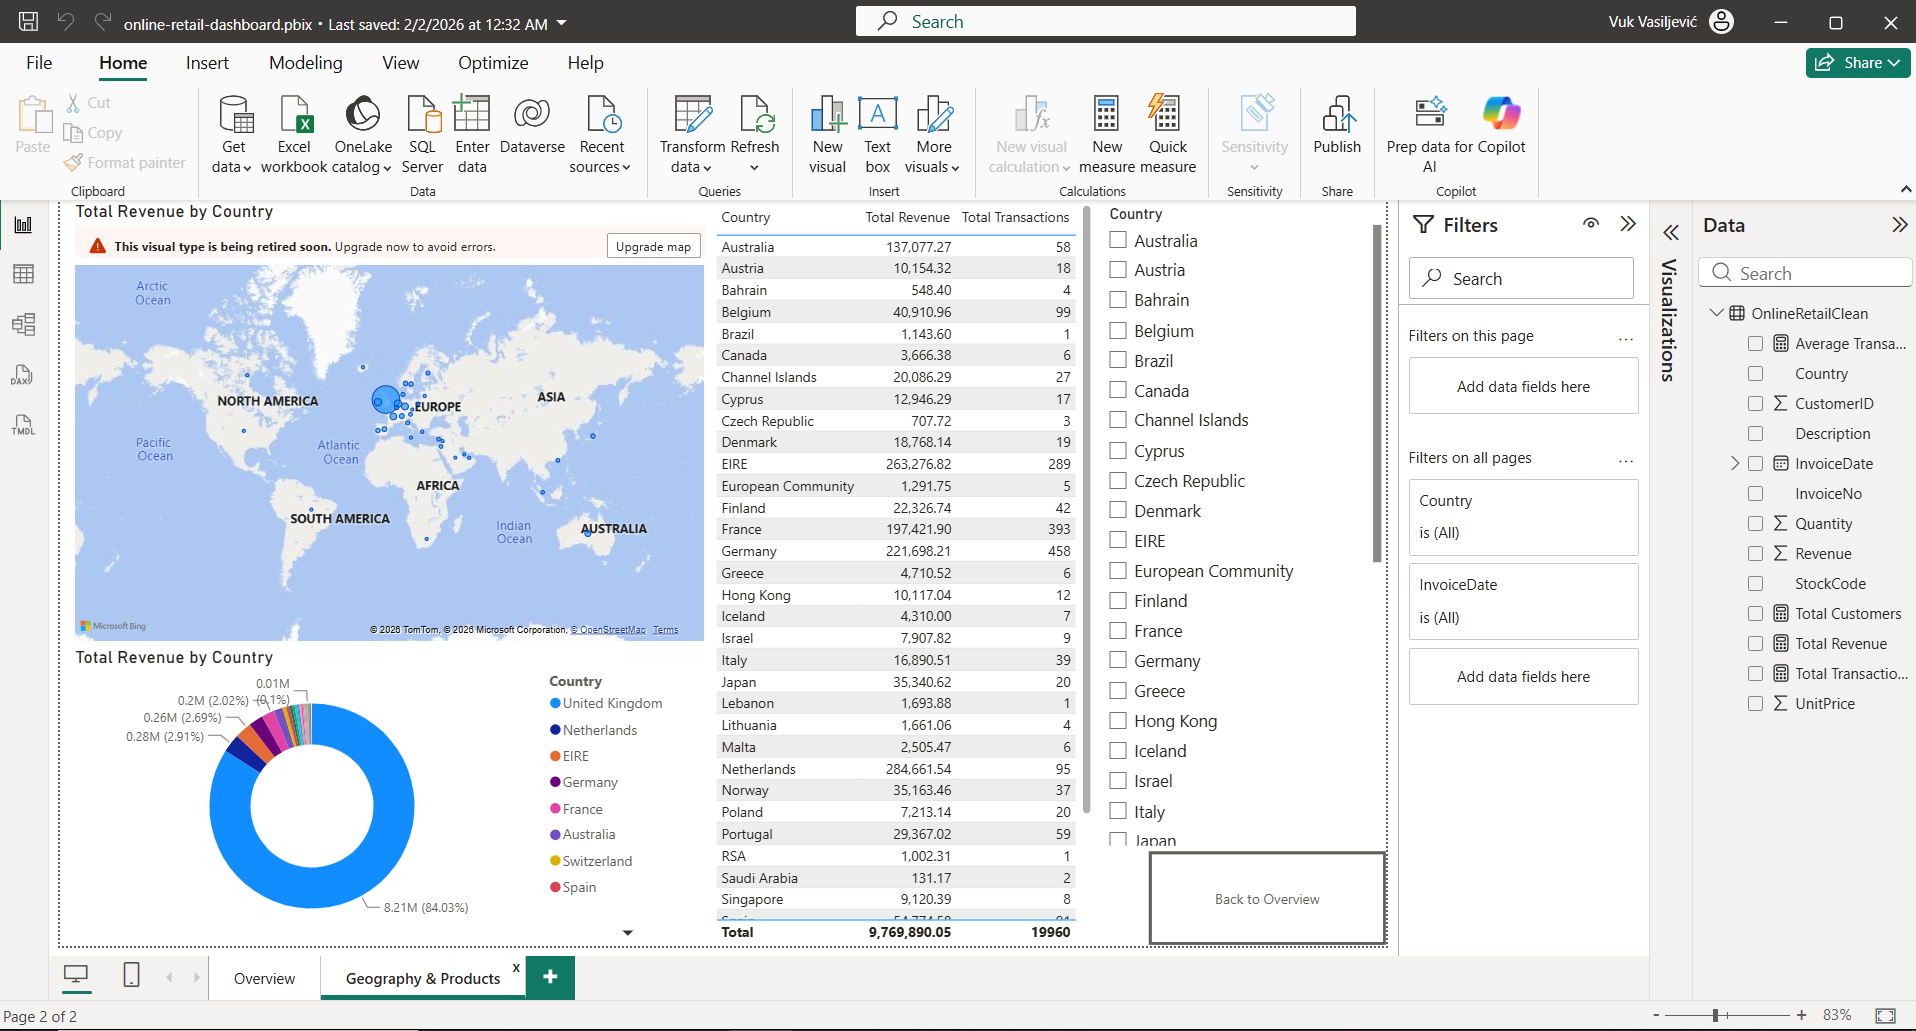

The dashboard page shown, as its layout file describes it:
{"tool":"powerbi","page":{"name":"Geography & Products","canvas":[1280,720],"ordinal":1},"visuals":[{"type":"map","fields":{"Category":["OnlineRetailClean.Country"],"Size":["OnlineRetailClean.Total Revenue"]},"box":[9.6,0,617.5,430.9],"z":0},{"type":"tableEx","fields":{"Values":["OnlineRetailClean.Country","OnlineRetailClean.Total Revenue","OnlineRetailClean.Total Transactions"]},"box":[627.1,0,373.2,720.4],"z":1000},{"type":"donutChart","fields":{"Category":["OnlineRetailClean.Country"],"Y":["OnlineRetailClean.Total Revenue"]},"box":[9.6,430.9,617.5,289.5],"z":2000},{"type":"slicer","fields":{"Values":["OnlineRetailClean.Country"]},"box":[1000.3,0,279.9,628.5],"z":3000},{"type":"actionButton","box":[1051.1,628.5,229.2,90.6],"z":4000}]}

Visuals, with their boxes on the page's 1280x720 design canvas (x1, y1, x2, y2). These are canvas units, not pixel positions in the 1916x1031 screenshot, which may show the page scaled, cropped or inside an application window:
map - OnlineRetailClean.Country x OnlineRetailClean.Total Revenue: (x1=10, y1=0, x2=627, y2=431)
tableEx - OnlineRetailClean.Country x OnlineRetailClean.Total Revenue: (x1=627, y1=0, x2=1000, y2=720)
donutChart - OnlineRetailClean.Country x OnlineRetailClean.Total Revenue: (x1=10, y1=431, x2=627, y2=720)
slicer - OnlineRetailClean.Country: (x1=1000, y1=0, x2=1280, y2=628)
actionButton: (x1=1051, y1=628, x2=1280, y2=719)
